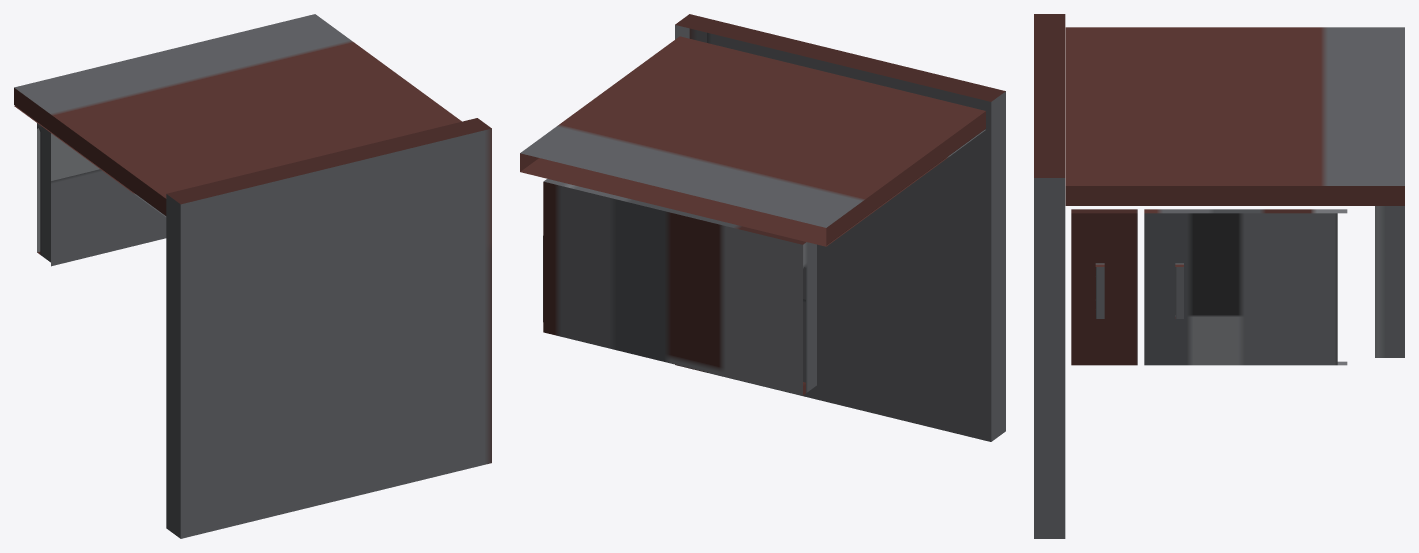
The model's file is section-0.obj.
The picture shows the model from 3 angles, left to right: view 1: azimuth 30°, elevation 25°; view 2: azimuth 150°, elevation 25°; view 3: azimuth 270°, elevation 25°; orthographic projection. The views are drawn at different scales.
Size of the model in its own units: 0.879 by 0.902 by 0.8395.
